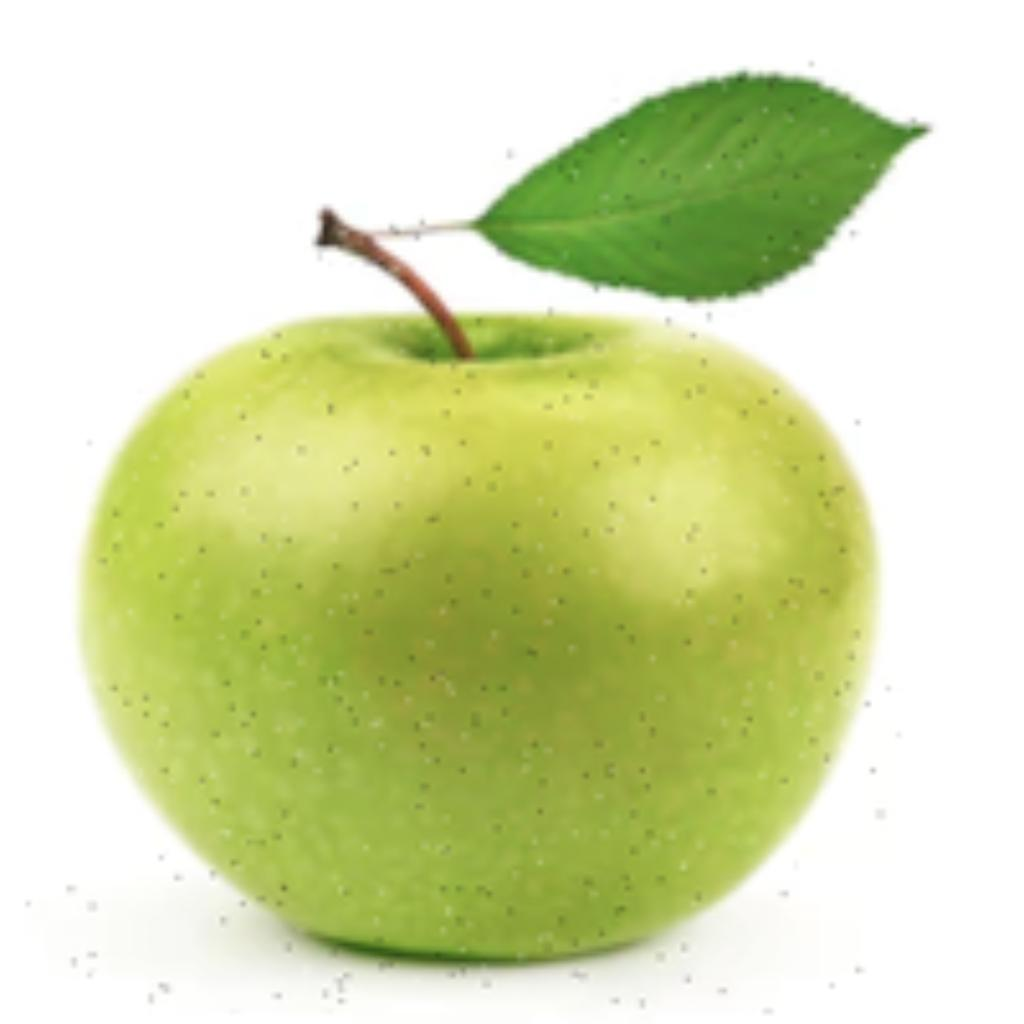apple: (67, 56, 937, 1014)
